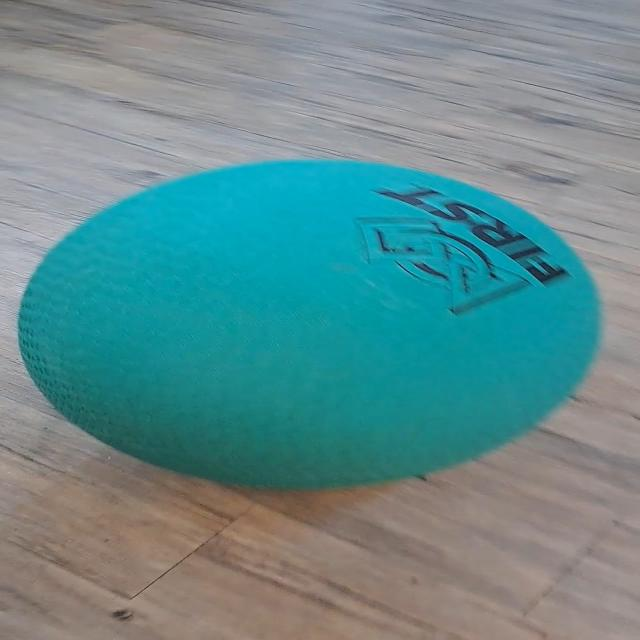ALGAE: (15, 156, 605, 492)
